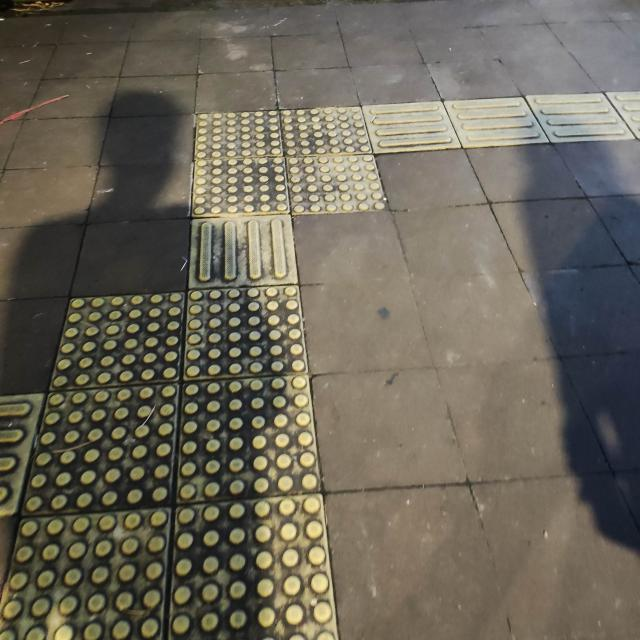kanan: (144, 74, 525, 246)
